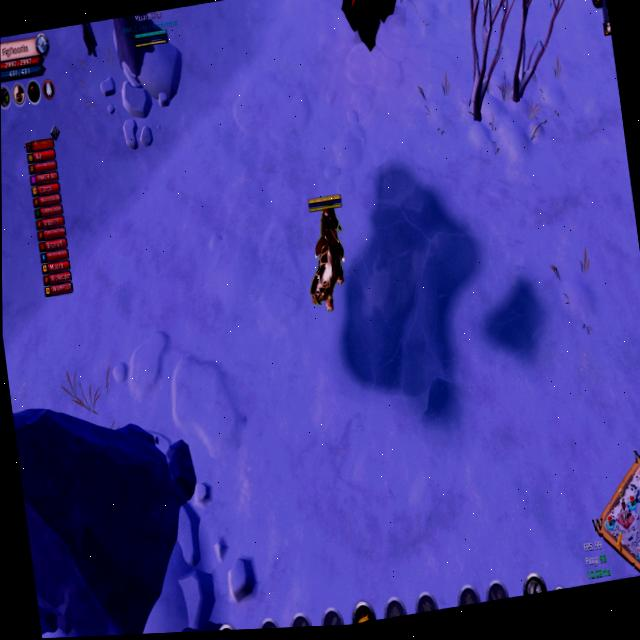red: (294, 185, 363, 322), (114, 6, 187, 50)
